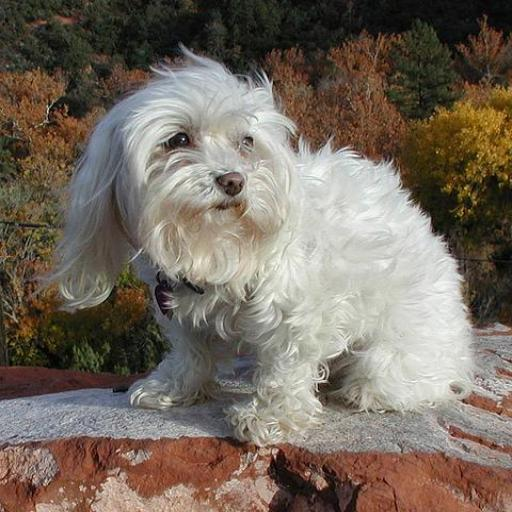dog_face: (74, 71, 309, 284)
